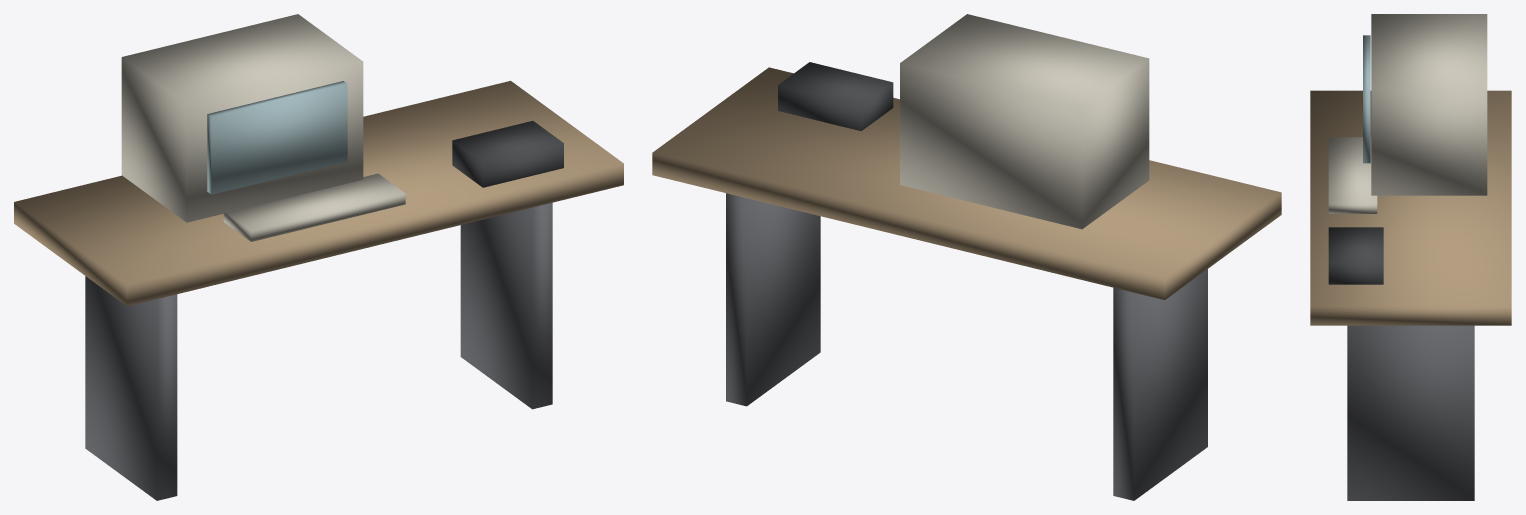
The model's file is crt_workstation__wide.glb.
3 renders of one model, left to right at view 1: azimuth 30°, elevation 25°; view 2: azimuth 150°, elevation 25°; view 3: azimuth 270°, elevation 25°, orthographic. The views are drawn at different scales.
Parts seen in each view (by area): view 1: world; view 2: world; view 3: world.
Part boxes in pixels (x1=…): world: x1=14, y1=14, x2=623, y2=500; world: x1=652, y1=14, x2=1281, y2=500; world: x1=1310, y1=14, x2=1511, y2=500.
Bounding box in the file's own units: 1.67 × 1.21 × 0.66.
